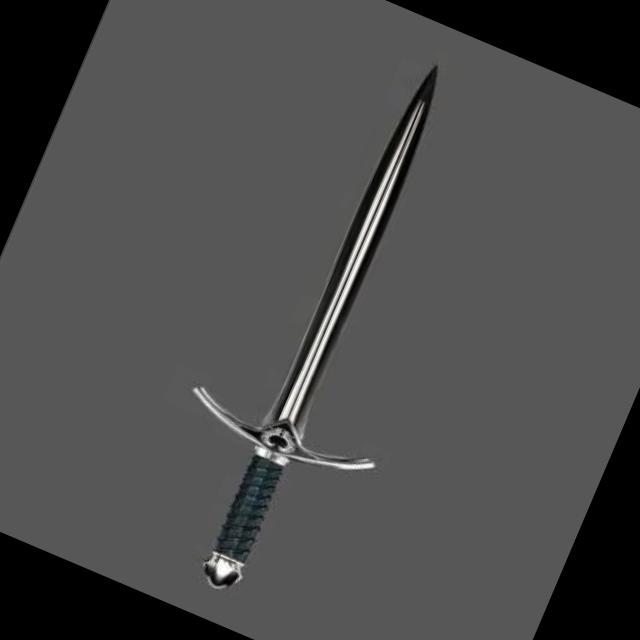Weapon: (115, 26, 528, 630)
